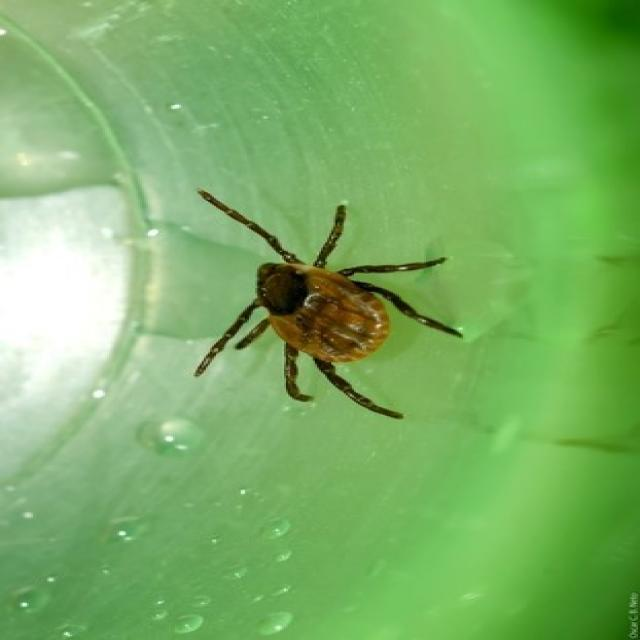Rhipicephalus Sanguineus-F: (195, 193, 459, 421)
